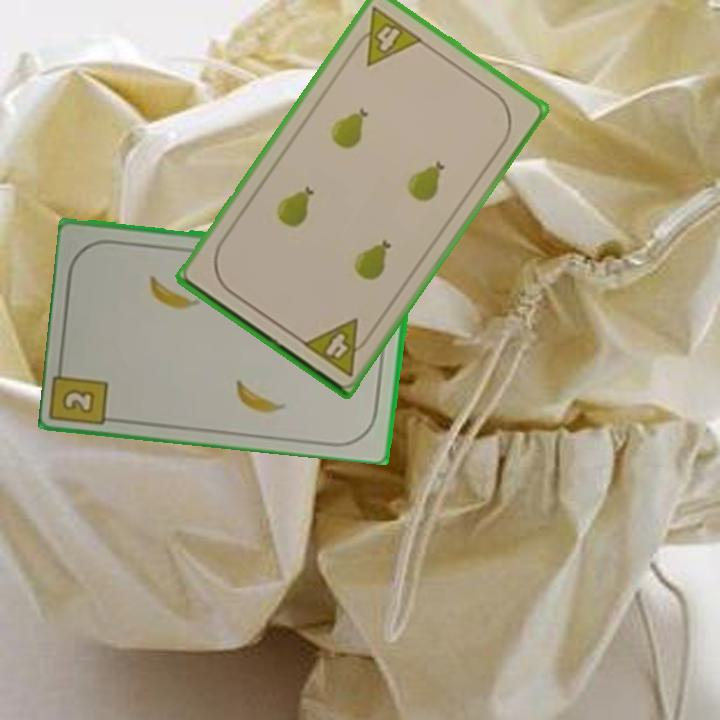2b: (58, 385, 98, 416)
4p: (346, 3, 426, 69), (298, 314, 376, 380)
